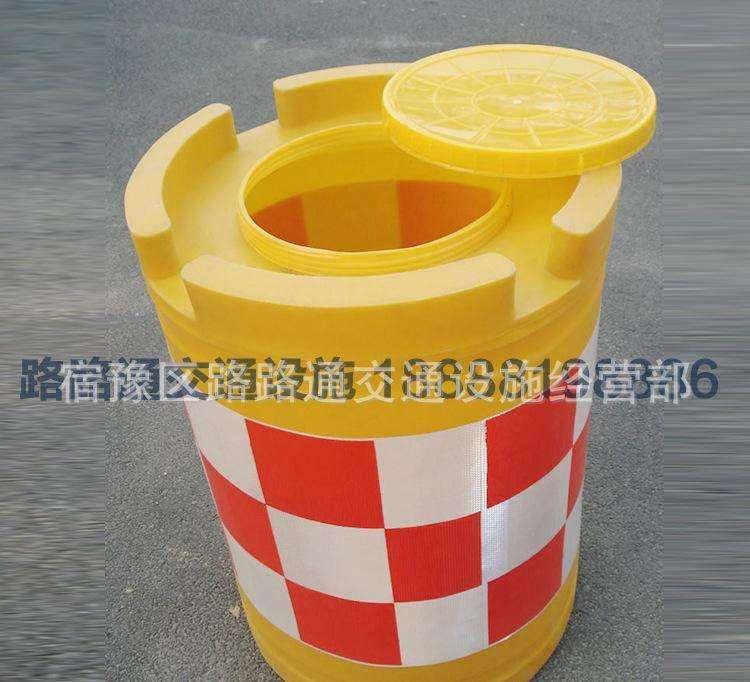sign: (122, 49, 659, 682)
